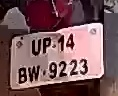1: (57, 33, 66, 54)
2: (69, 57, 78, 78), (59, 60, 67, 78)
3: (79, 56, 89, 75)
4: (65, 32, 76, 53)
9: (48, 60, 58, 80)
B: (16, 66, 28, 84)
P: (42, 37, 51, 55)
U: (29, 38, 41, 57)
W: (28, 65, 41, 83)
